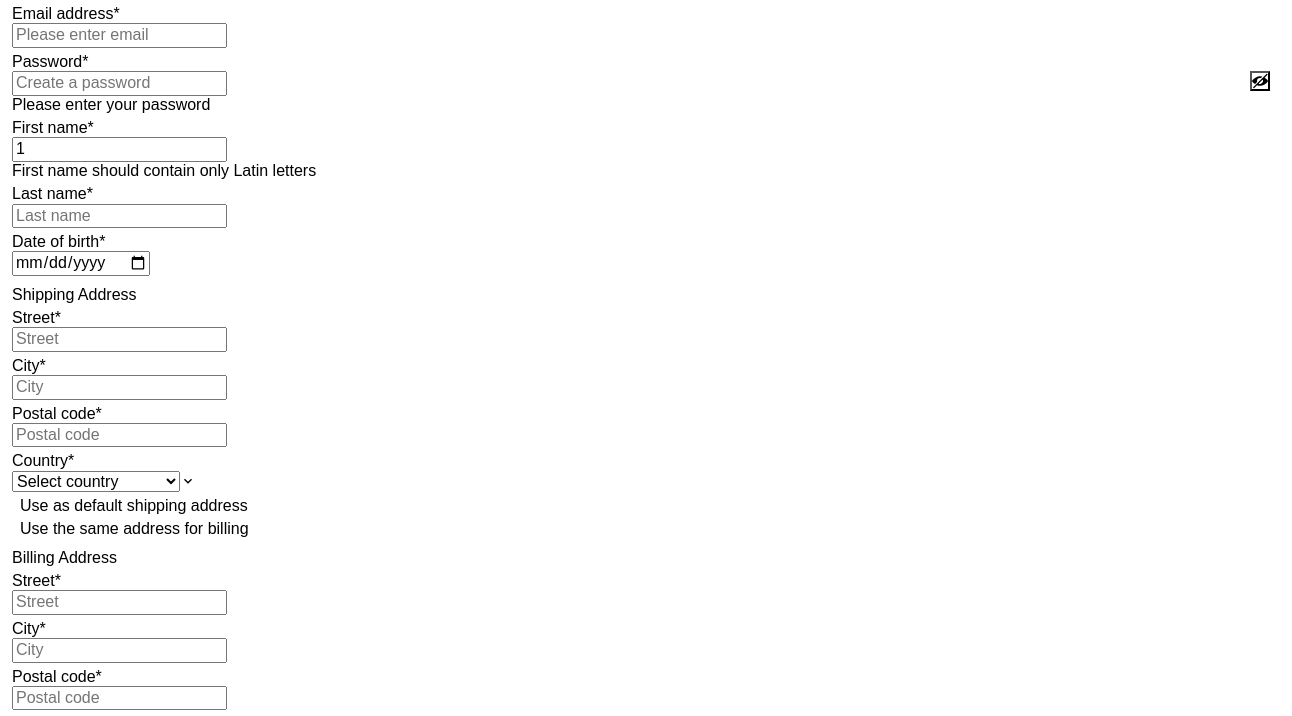
Test: SignUpForm › should say if no firstname is entered
The image size is (1292, 716).
Clear the field with placeholder "First name" at (120, 150), box [12,137,227,162]
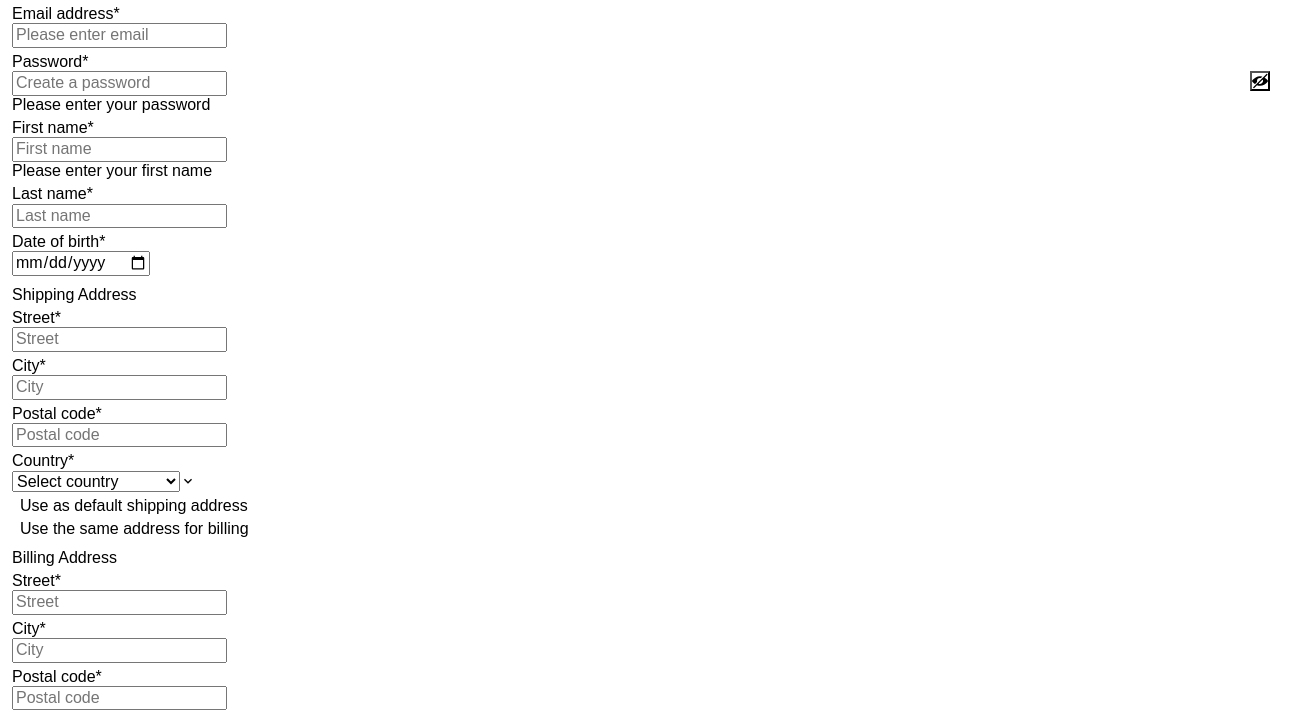
Expected: the text "Please enter your first name" is shown, [12,162,212,179]
